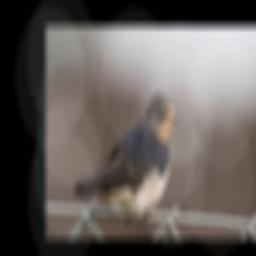Swallow: (72, 90, 179, 229)
